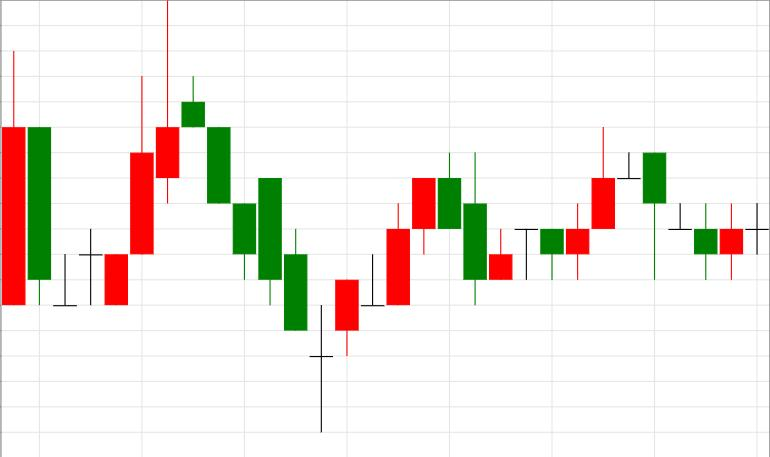morning_star_rise: (182, 77, 358, 432)
shooting_star_fall: (54, 0, 179, 307)
